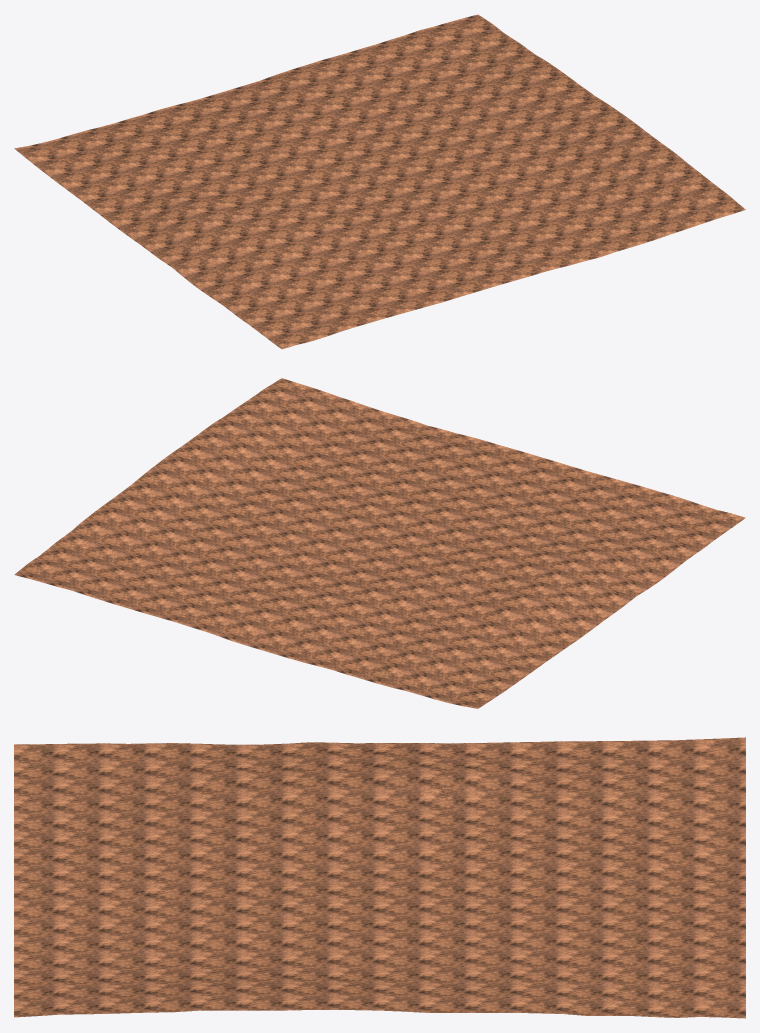
Rendered from terrain_07_17.dae.
3 views of the same model, one above another, from view 1: azimuth 30°, elevation 25°; view 2: azimuth 150°, elevation 25°; view 3: azimuth 270°, elevation 25° (orthographic). The views are drawn at different scales.
Parts seen in each view (by area): view 1: terrain_07_17-node; view 2: terrain_07_17-node; view 3: terrain_07_17-node.
Part boxes in pixels (x1,y1,x2,y2): terrain_07_17-node: [14, 14, 745, 349]; terrain_07_17-node: [14, 378, 745, 708]; terrain_07_17-node: [14, 737, 745, 1018].
Bounding box in the file's own units: 128 × 128 × 8.55.
1 material, 1 textured.
